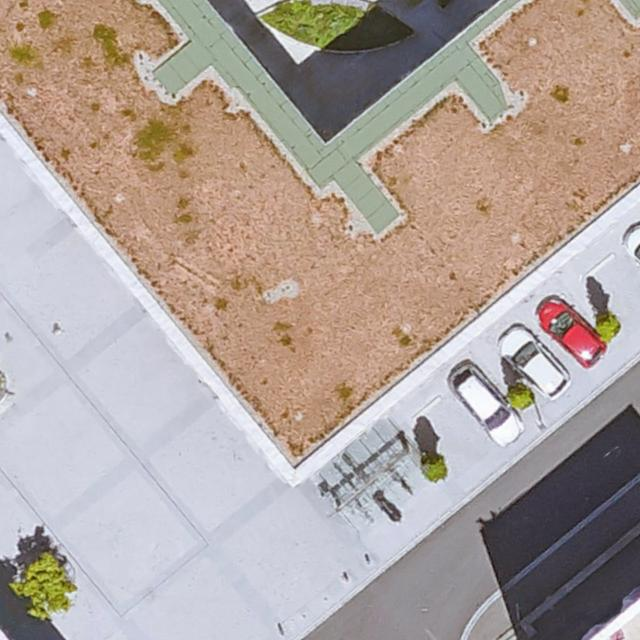tree: (10, 553, 75, 620)
